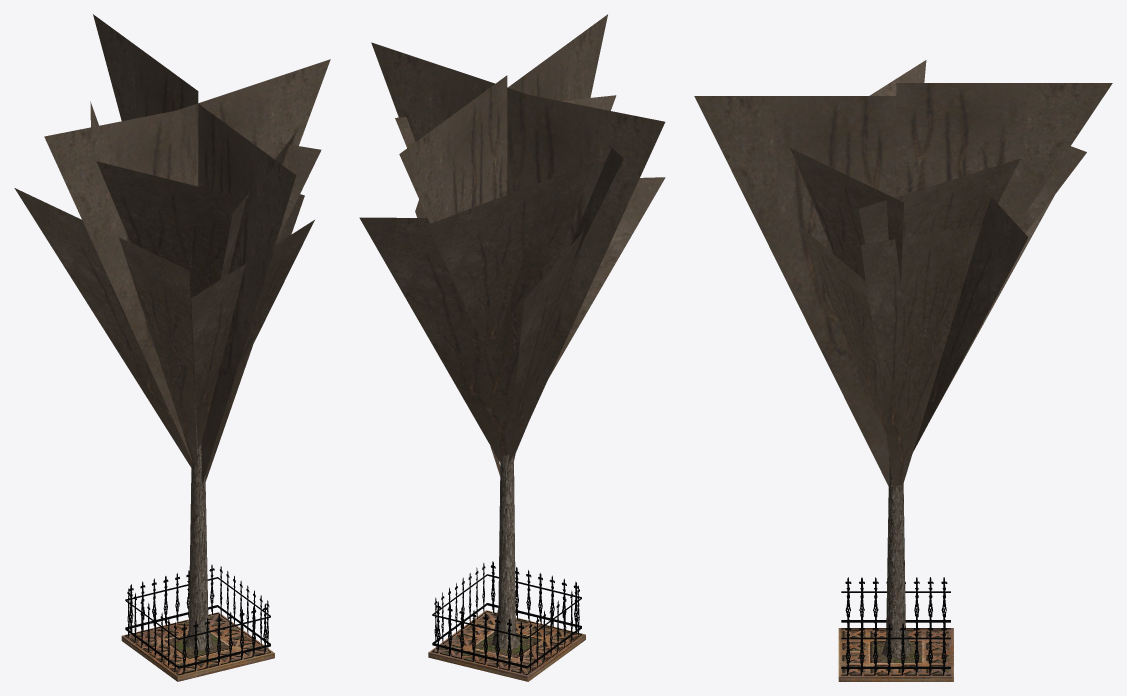
File: tree2d_base.fbx
The picture shows the model from 3 angles, left to right: view 1: azimuth 30°, elevation 25°; view 2: azimuth 150°, elevation 25°; view 3: azimuth 270°, elevation 25°; orthographic projection. The views are drawn at different scales.
Parts seen in each view (by area): view 1: mesh_4, mesh_0, mesh_2, mesh_3; view 2: mesh_4, mesh_0, mesh_2, mesh_3; view 3: mesh_4, mesh_2, mesh_0, mesh_3.
Part boxes in pixels (x1,y1,x2,y2): mesh_4: (14,14,330,485); mesh_0: (125,564,270,674); mesh_2: (121,612,274,681); mesh_3: (185,391,213,649); mesh_4: (359,14,665,477); mesh_0: (432,561,581,674); mesh_2: (428,610,585,681); mesh_3: (492,455,520,650); mesh_4: (694,60,1112,490); mesh_2: (838,628,953,681); mesh_0: (841,577,950,675); mesh_3: (882,457,911,658).
Size of the model in its own units: 590 by 1098 by 725.
4 materials, 4 textured.
